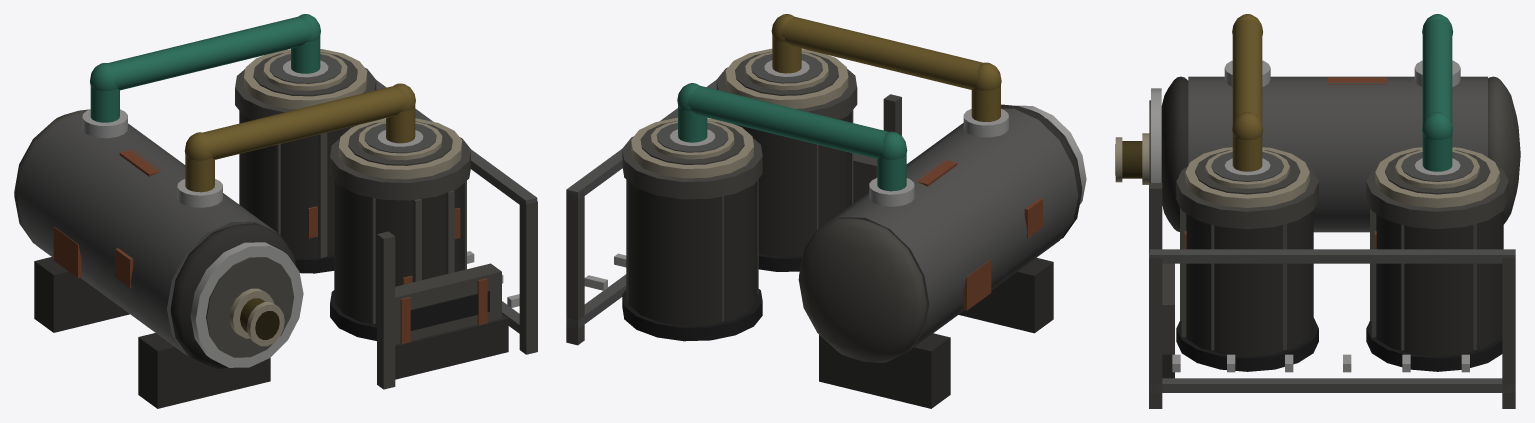
Rendered from CMU3DFiltration.glb.
3 renders of one model, left to right at view 1: azimuth 30°, elevation 25°; view 2: azimuth 150°, elevation 25°; view 3: azimuth 270°, elevation 25°, orthographic.
Visible parts, largest first — view 1: long left pressure vessel, front upright dark filter vessel, pressure drum saddle foot (×2), rear upright dark filter vessel, green rear transverse manifold, ochre front transverse manifold, exposed support frame post (×2), front head inset, rounded pressure vessel front head, front head circular flange, front instrument plinth, front instrument enclosure (+29 smaller); view 2: long left pressure vessel, rear upright dark filter vessel, rounded pressure vessel rear head, pressure drum saddle foot (×2), front upright dark filter vessel, ochre front transverse manifold, green rear transverse manifold, rear upper cast flange, exposed support frame post (×2), rear lower cast flange, rear pale lid rim, right longitudinal frame rail (×2) (+20 smaller); view 3: long left pressure vessel, rear upright dark filter vessel, front upright dark filter vessel, right longitudinal frame rail (×2), exposed support frame post (×3), rear upper cast flange, front upper cast flange, rounded pressure vessel front head, rounded pressure vessel rear head, green rear transverse manifold, ochre front transverse manifold, rear pale lid rim (+22 smaller).
Boxes of the visible parts, x1,y1,x2,y2 form: long left pressure vessel: [17, 112, 276, 355]; front upright dark filter vessel: [335, 181, 464, 325]; pressure drum saddle foot (×2): [34, 257, 270, 408]; rear upright dark filter vessel: [240, 112, 351, 257]; green rear transverse manifold: [108, 16, 311, 90]; ochre front transverse manifold: [203, 86, 405, 159]; exposed support frame post (×2): [377, 200, 537, 389]; front head inset: [206, 257, 293, 357]; rounded pressure vessel front head: [170, 223, 296, 368]; front head circular flange: [190, 242, 303, 367]; front instrument plinth: [395, 314, 508, 379]; front instrument enclosure: [395, 263, 501, 344]; long left pressure vessel: [820, 108, 1078, 350]; rear upright dark filter vessel: [628, 180, 757, 325]; rounded pressure vessel rear head: [798, 218, 926, 362]; pressure drum saddle foot (×2): [819, 257, 1053, 408]; front upright dark filter vessel: [734, 111, 851, 256]; ochre front transverse manifold: [781, 16, 983, 89]; green rear transverse manifold: [687, 86, 888, 158]; rear upper cast flange: [622, 136, 762, 199]; exposed support frame post (×2): [566, 94, 901, 345]; rear lower cast flange: [622, 289, 762, 341]; rear pale lid rim: [631, 117, 753, 178]; right longitudinal frame rail (×2): [566, 80, 716, 329]; long left pressure vessel: [1188, 76, 1487, 232]; rear upright dark filter vessel: [1376, 211, 1503, 356]; front upright dark filter vessel: [1186, 211, 1313, 356]; right longitudinal frame rail (×2): [1149, 249, 1515, 392]; exposed support frame post (×3): [1149, 183, 1515, 408]; rear upper cast flange: [1366, 166, 1508, 229]; front upper cast flange: [1176, 166, 1318, 229]; rounded pressure vessel front head: [1161, 76, 1188, 231]; rounded pressure vessel rear head: [1488, 76, 1520, 224]; green rear transverse manifold: [1422, 19, 1452, 125]; ochre front transverse manifold: [1232, 19, 1262, 125]; rear pale lid rim: [1375, 147, 1499, 207].
Size of the model in its own units: 2.77 by 1.88 by 2.73.
